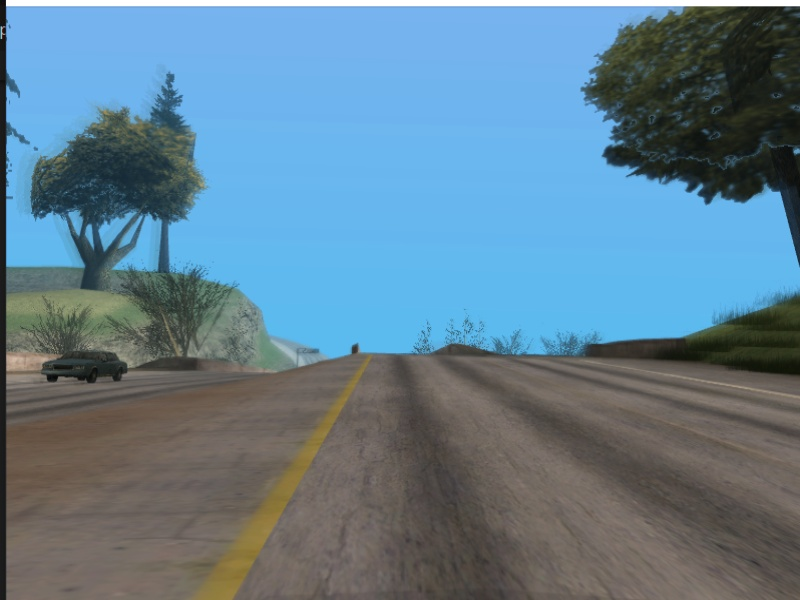vehicle: (39, 347, 134, 387)
